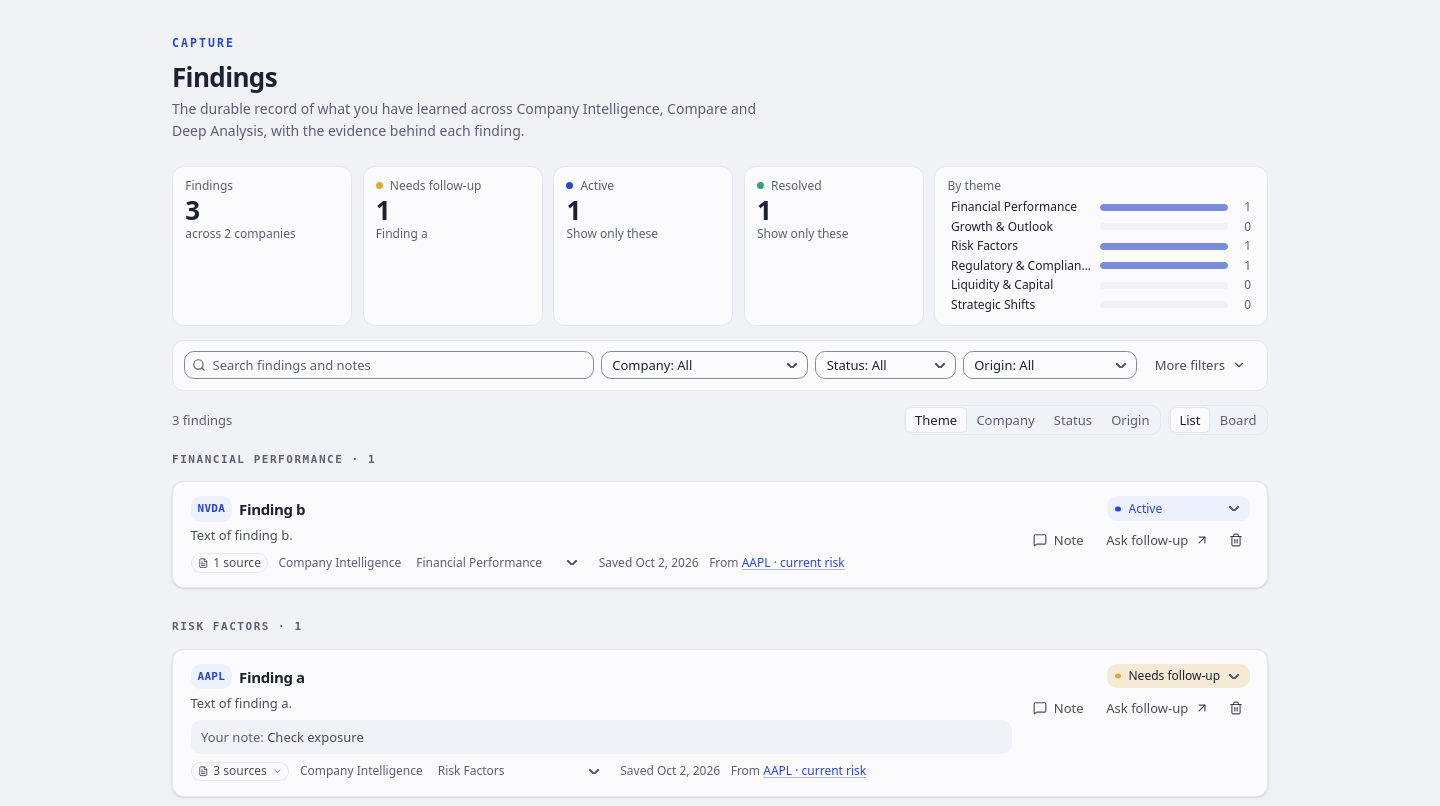
Scenario: Findings: every control one click away (list and Board) › changing status in the Board moves the card to that column
The image size is (1440, 806).
Click the radio button labelled "Board".
click(1238, 420)  # box x1=1211 y1=408 x2=1265 y2=432
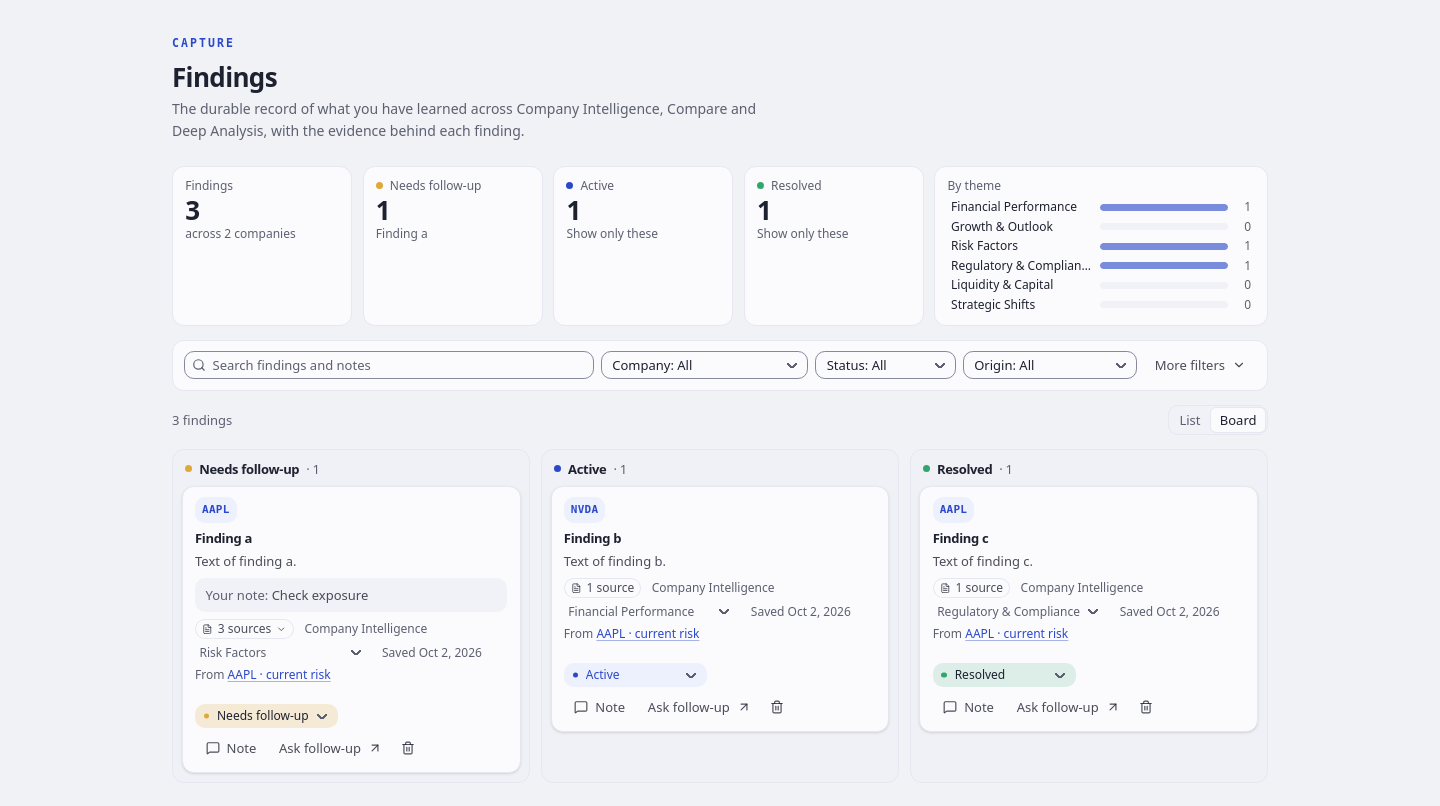
Select "Resolved" in the 7th dropdown named "Status for Finding b" at [635, 675], box x1=564 y1=663 x2=707 y2=687
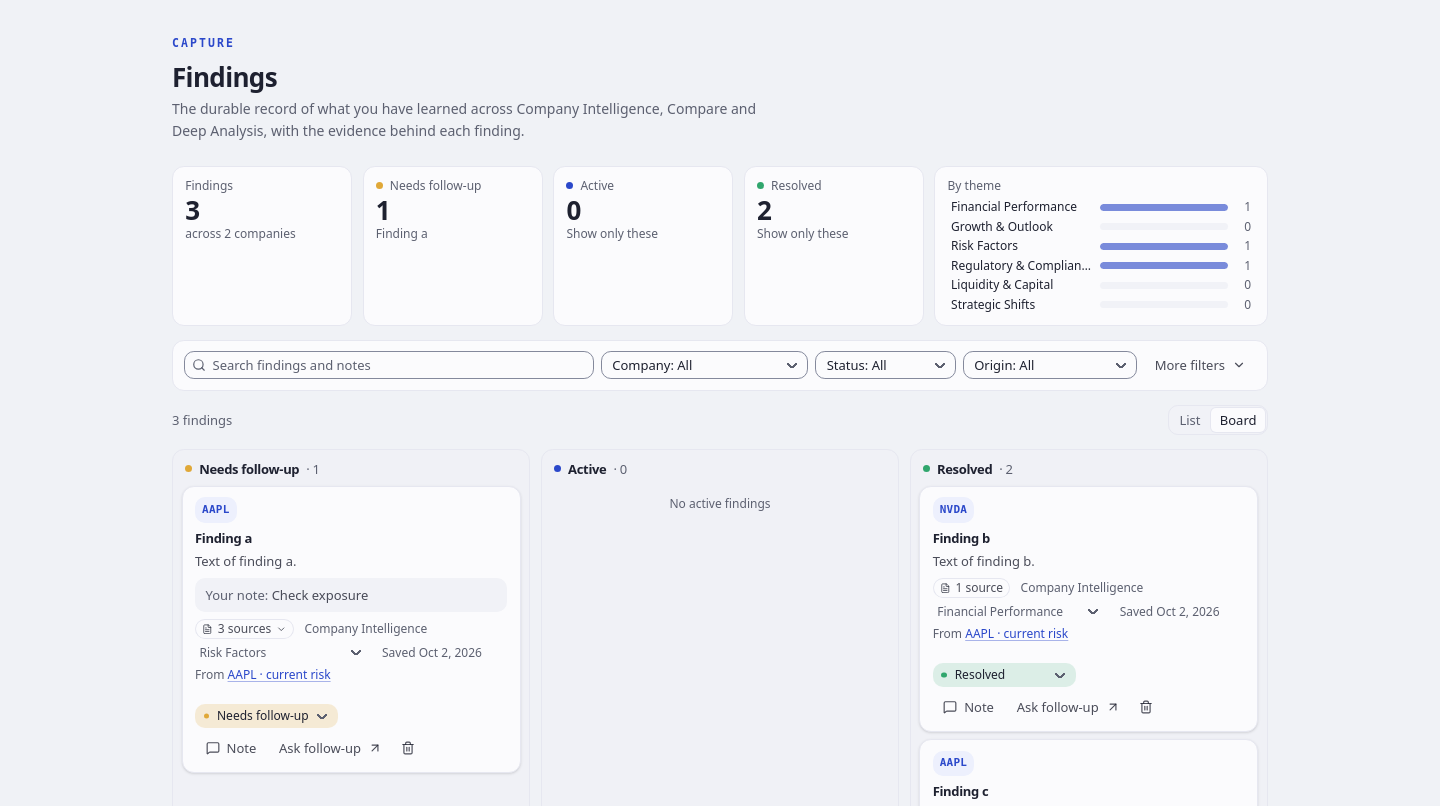
Check: the heading "Finding b" is shown, box x1=933 y1=529 x2=990 y2=547
Check: the text "No active findings" is shown, box x1=670 y1=495 x2=771 y2=512
